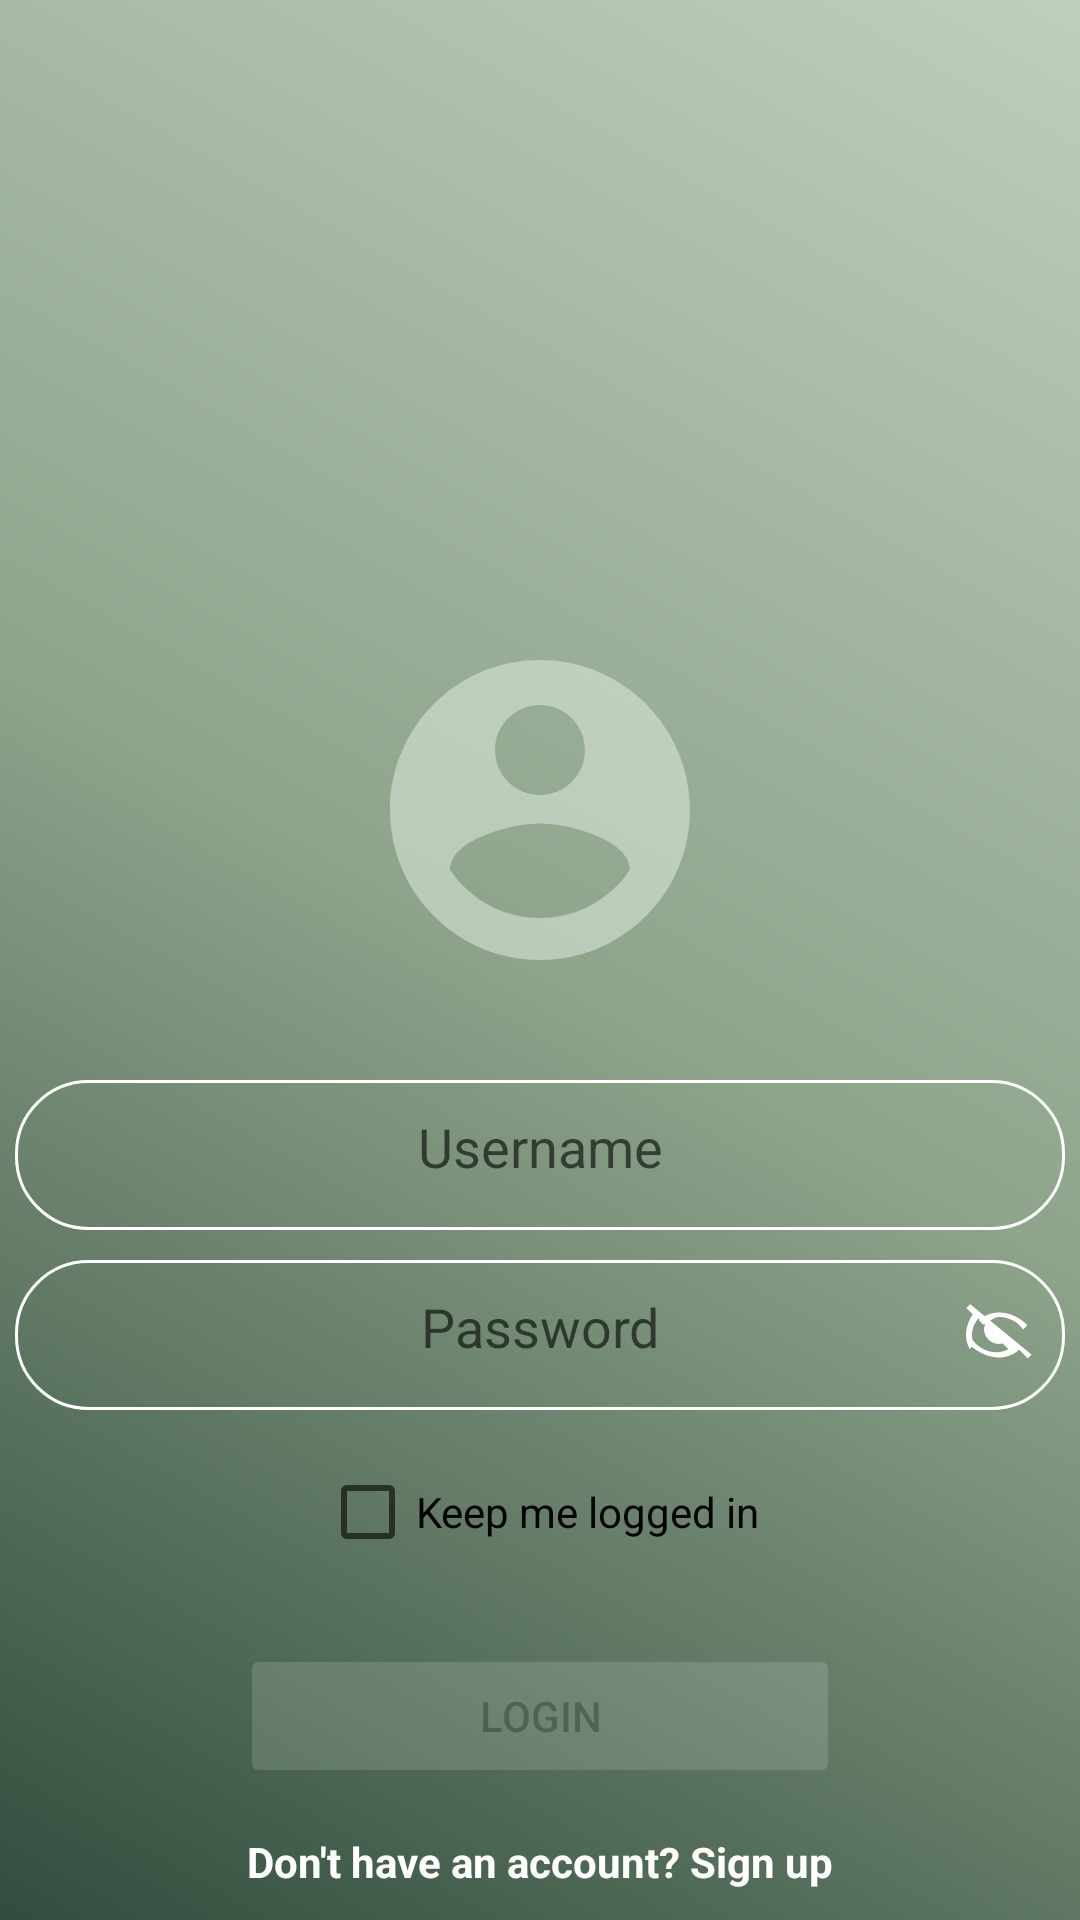

Point at icon controls on the screen. Image size 1080px x 1920px, points as (x=x, y=y).
eye closed: (x=999, y=1331)
